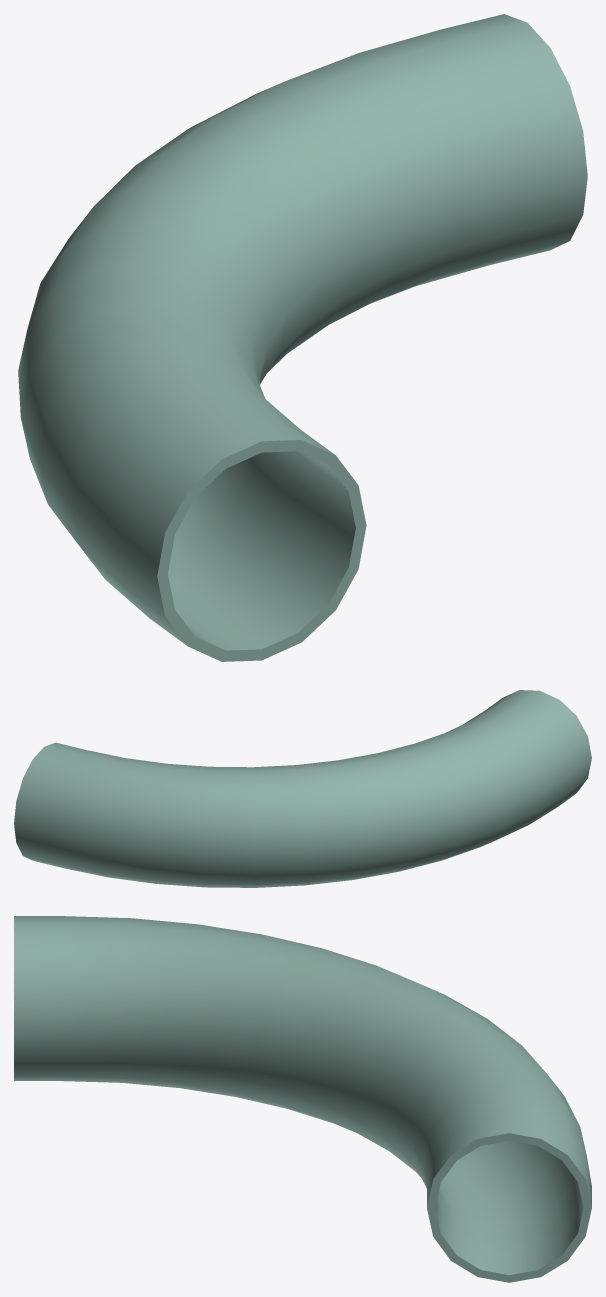
Rendered from PipeLarge_Hollow_Bent_03.fbx.
3 views of the same model, one above another, from view 1: azimuth 30°, elevation 25°; view 2: azimuth 150°, elevation 25°; view 3: azimuth 270°, elevation 25° (orthographic). The views are drawn at different scales.
Parts seen in each view (by area): view 1: PipeLarge_Hollow_Bent_03.001; view 2: PipeLarge_Hollow_Bent_03.001; view 3: PipeLarge_Hollow_Bent_03.001.
Part boxes in pixels (<box>): PipeLarge_Hollow_Bent_03.001: <box>18,14,587,661</box>; PipeLarge_Hollow_Bent_03.001: <box>14,690,591,887</box>; PipeLarge_Hollow_Bent_03.001: <box>14,916,591,1282</box>.
Size of the model in its own units: 0.7 by 0.2 by 0.7.
